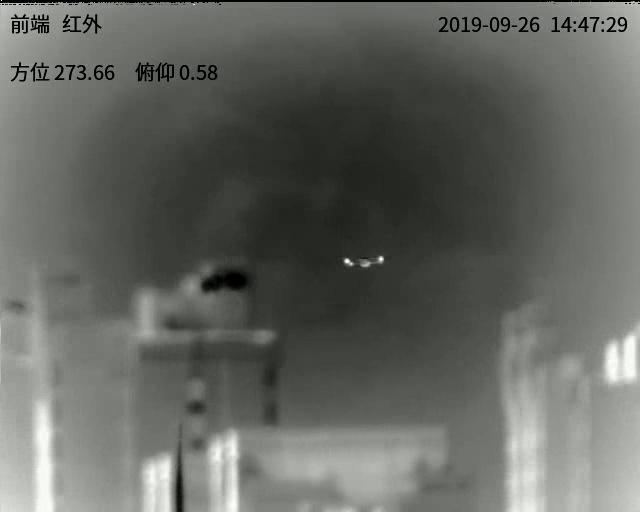DRONE: (342, 253, 385, 269)
